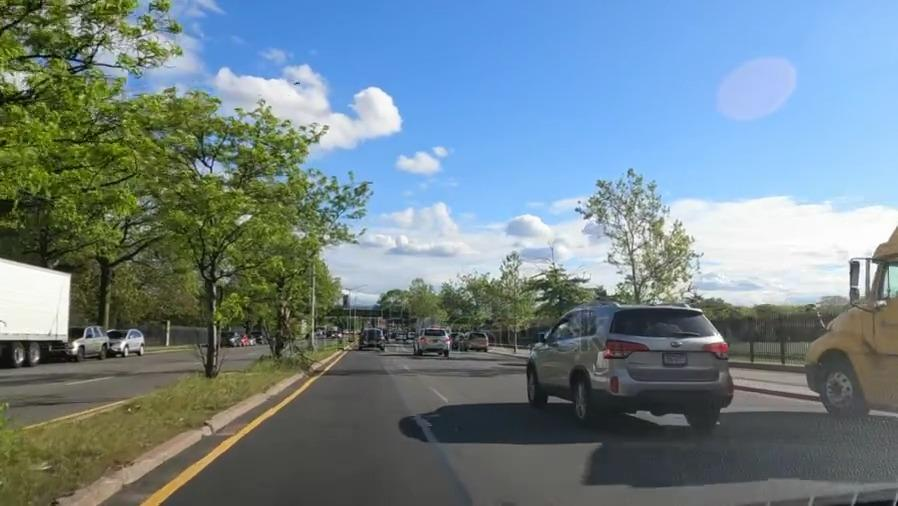bird: (290, 81, 304, 89)
car: (519, 311, 727, 419), (67, 328, 107, 361), (108, 328, 142, 356), (415, 328, 448, 356), (360, 328, 386, 352), (467, 332, 489, 354)
truck: (803, 225, 898, 413), (0, 260, 68, 361)
